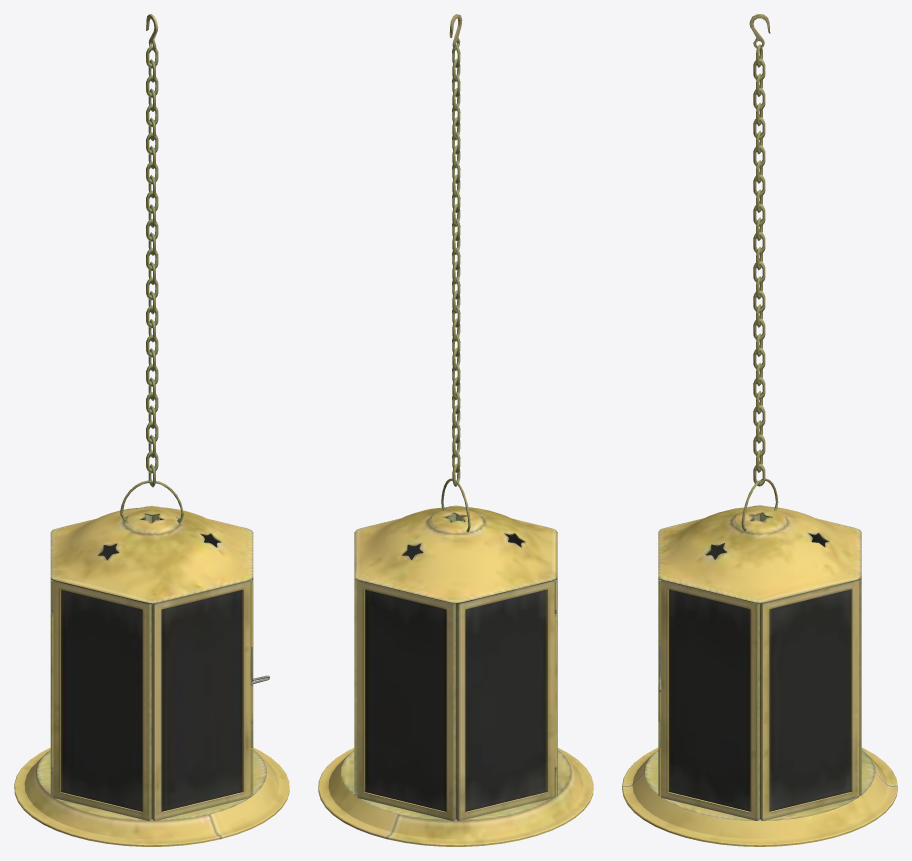
Rendered from brass_diya_lantern.glb.
The picture shows the model from 3 angles, left to right: view 1: azimuth 30°, elevation 25°; view 2: azimuth 150°, elevation 25°; view 3: azimuth 270°, elevation 25°; orthographic projection.
Visible parts, largest first — view 1: brass_diya_lantern, brass_diya_lantern_connection; view 2: brass_diya_lantern, brass_diya_lantern_connection; view 3: brass_diya_lantern, brass_diya_lantern_connection.
Part boxes in pixels (bbox=[...]): brass_diya_lantern: bbox=[14, 505, 289, 846]; brass_diya_lantern_connection: bbox=[120, 14, 183, 522]; brass_diya_lantern: bbox=[318, 505, 593, 846]; brass_diya_lantern_connection: bbox=[441, 14, 470, 531]; brass_diya_lantern: bbox=[622, 505, 897, 846]; brass_diya_lantern_connection: bbox=[741, 14, 778, 530].
Size of the model in its own units: 0.123 by 0.3807 by 0.123.
3 materials, 3 textured.
